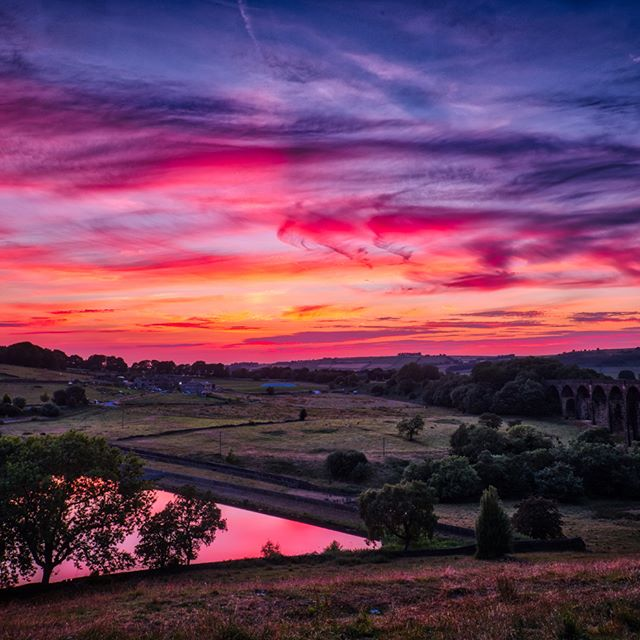bridge: (535, 372, 640, 430)
sky: (6, 1, 640, 346)
tree: (1, 418, 151, 604), (142, 494, 216, 572), (364, 476, 438, 554), (471, 487, 510, 562), (515, 494, 570, 543), (323, 445, 367, 492)
